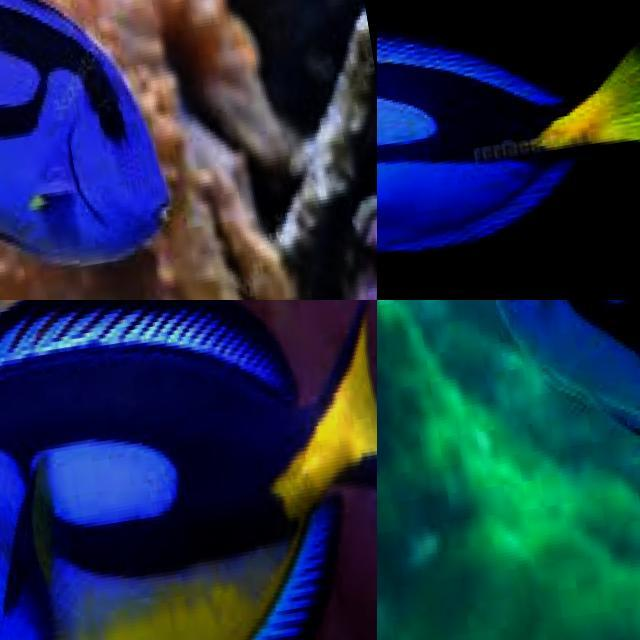BlueTang: (0, 300, 377, 640), (377, 0, 638, 253), (0, 0, 173, 263)
